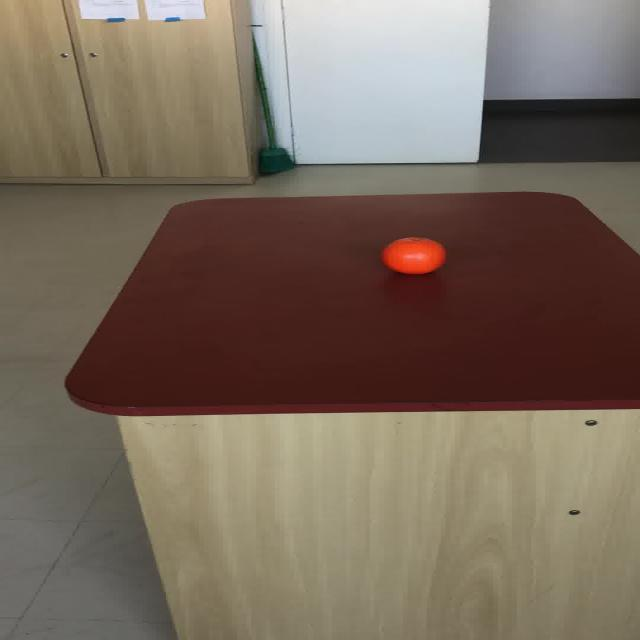orange: (380, 237, 446, 274)
